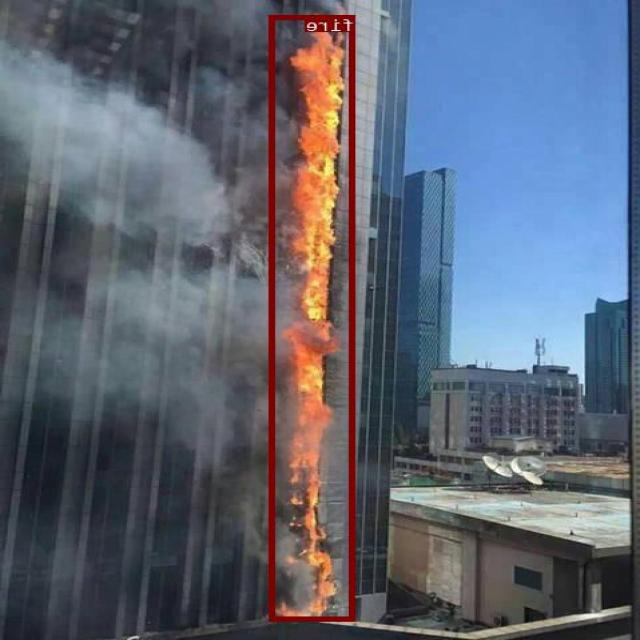fire: (270, 14, 356, 620)
